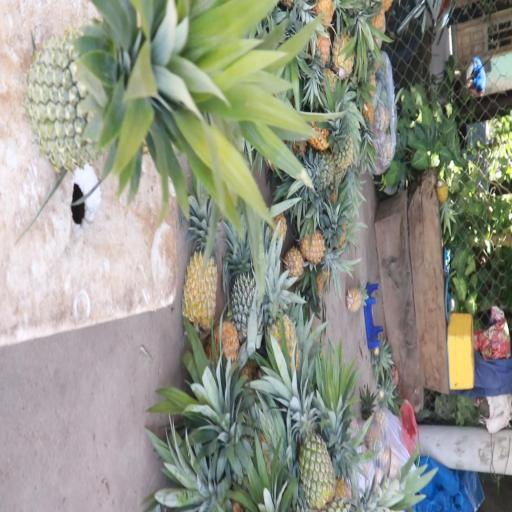------------------------------: (24, 11, 274, 175), (284, 375, 334, 503)
Pineapple - v8 v1: (179, 204, 222, 336), (263, 279, 307, 384), (294, 220, 346, 272)
